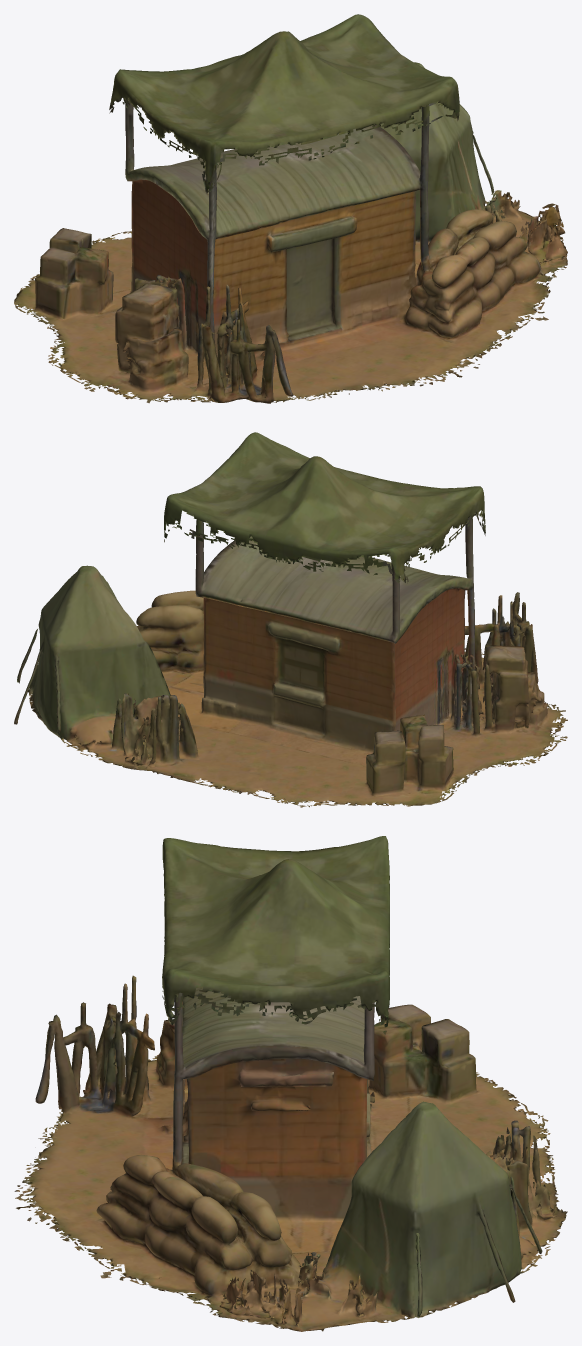
File: Barrack.glb
3 views of the same model, one above another, from view 1: azimuth 30°, elevation 25°; view 2: azimuth 150°, elevation 25°; view 3: azimuth 270°, elevation 25° (orthographic). The views are drawn at different scales.
Visible parts, largest first — view 1: Mesh1.0; view 2: Mesh1.0; view 3: Mesh1.0.
Boxes of the visible parts, x1,y1,x2,y2 form: Mesh1.0: (14, 14, 567, 403); Mesh1.0: (14, 432, 567, 807); Mesh1.0: (14, 836, 567, 1331).
Bounding box in the file's own units: 1.9 × 0.97 × 1.52.
Materials: 1 (1 with a texture image).
